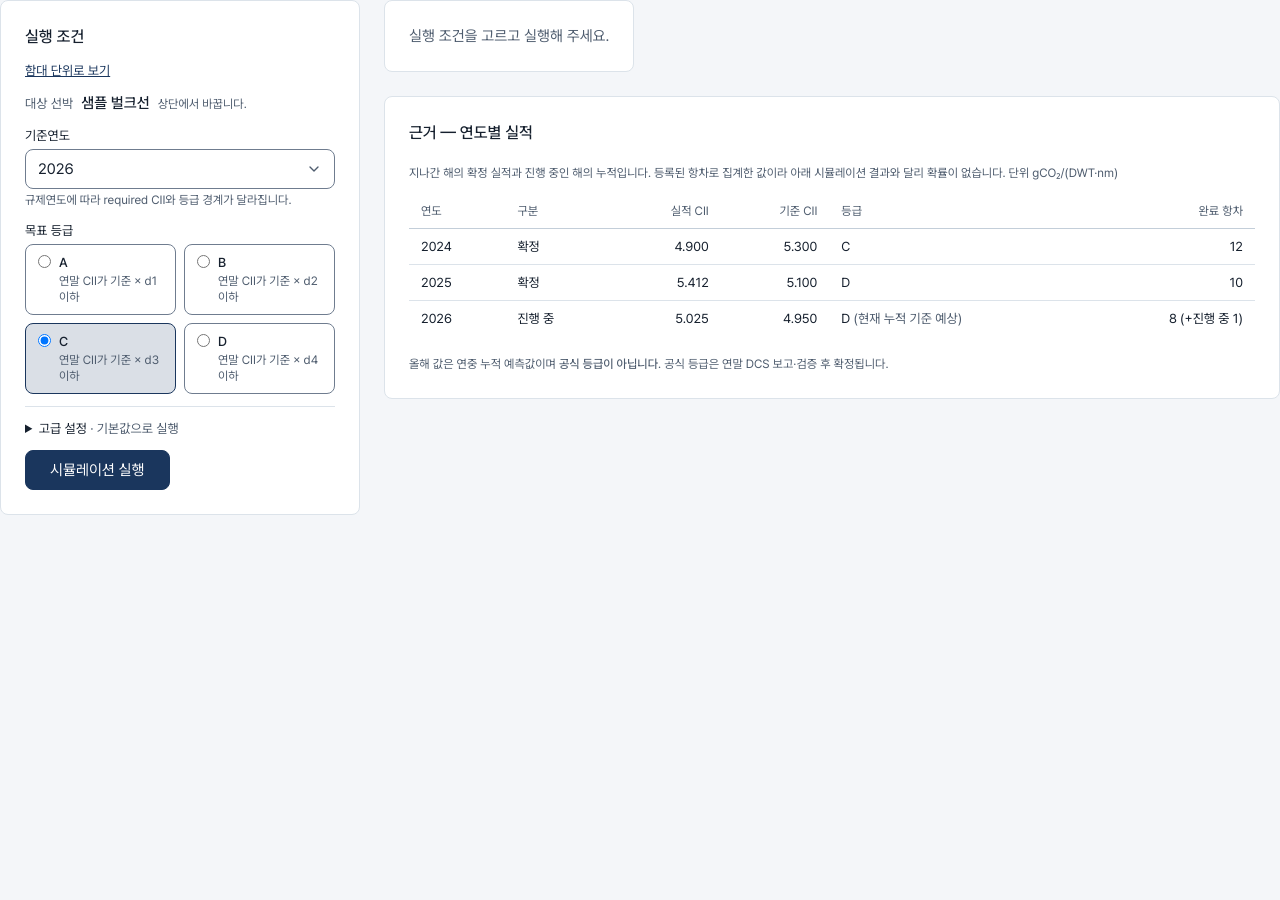
Test: ⑻ 결과의 해가 표의 확정 행과 같으면 계산 경로가 다르다는 한 줄 › 2025년으로 실행하면 표 아래에 2025년을 가리키는 안내가 서고, 2026년(진행 중)에는 없다
Check: the table is shown, box [409,195,1255,336]
Select "2025" in the dropdown labelled "기준연도" at (180, 169), box [25,149,335,189]
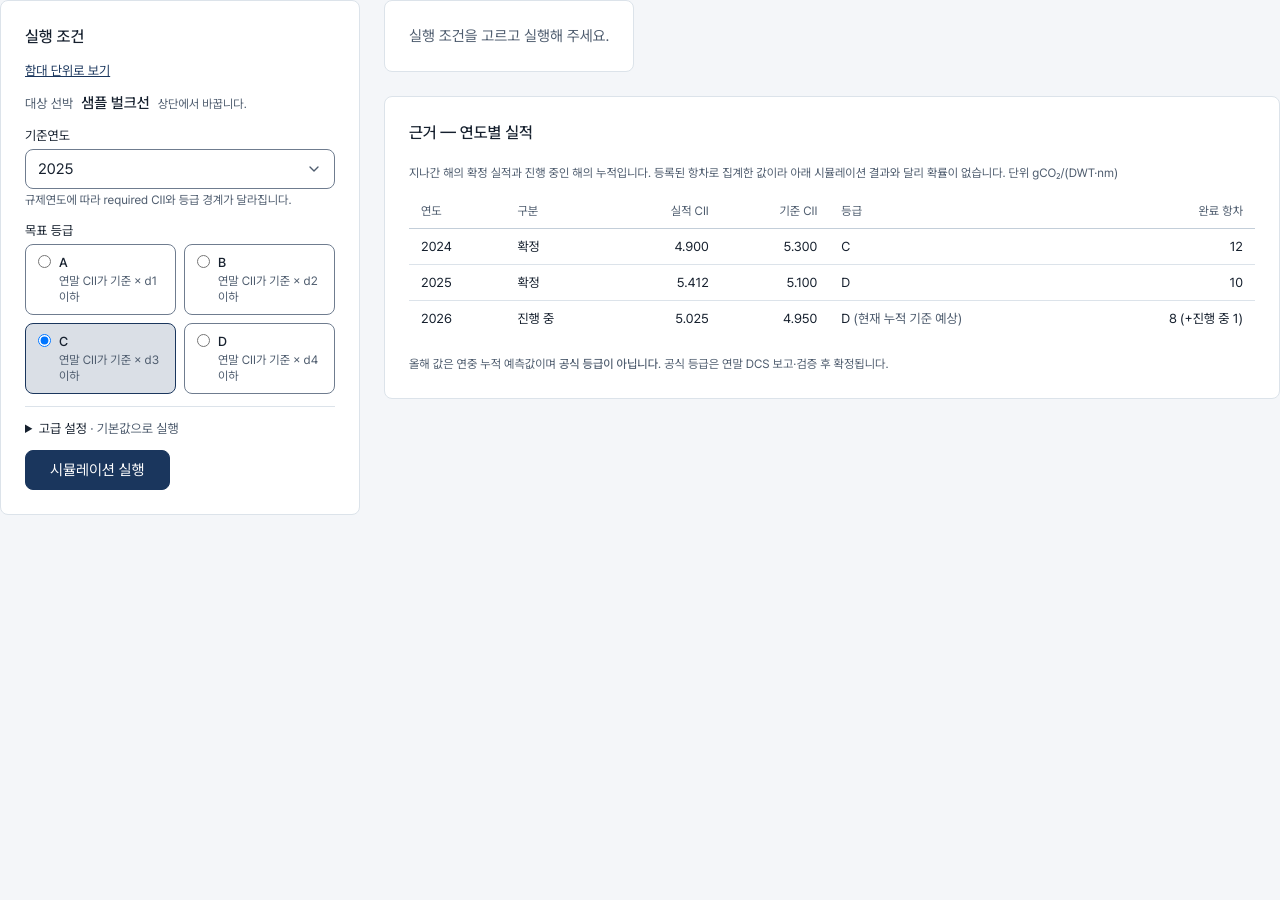
Click the button "시뮬레이션 실행" at (97, 470), box [25,450,170,490]
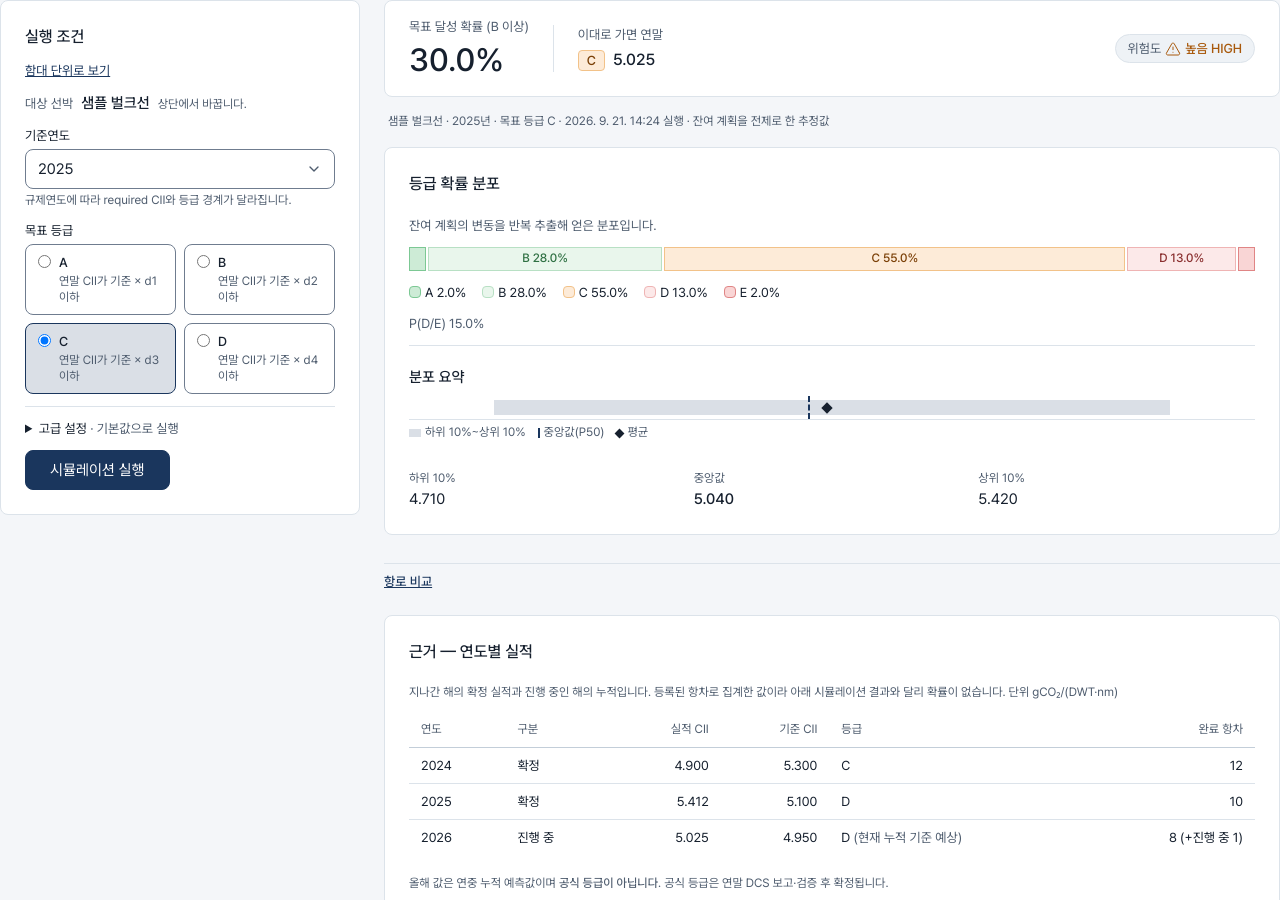
Check: the text with test id "annual-sim-last-run" shows "2025년", box [388,114,556,128]
